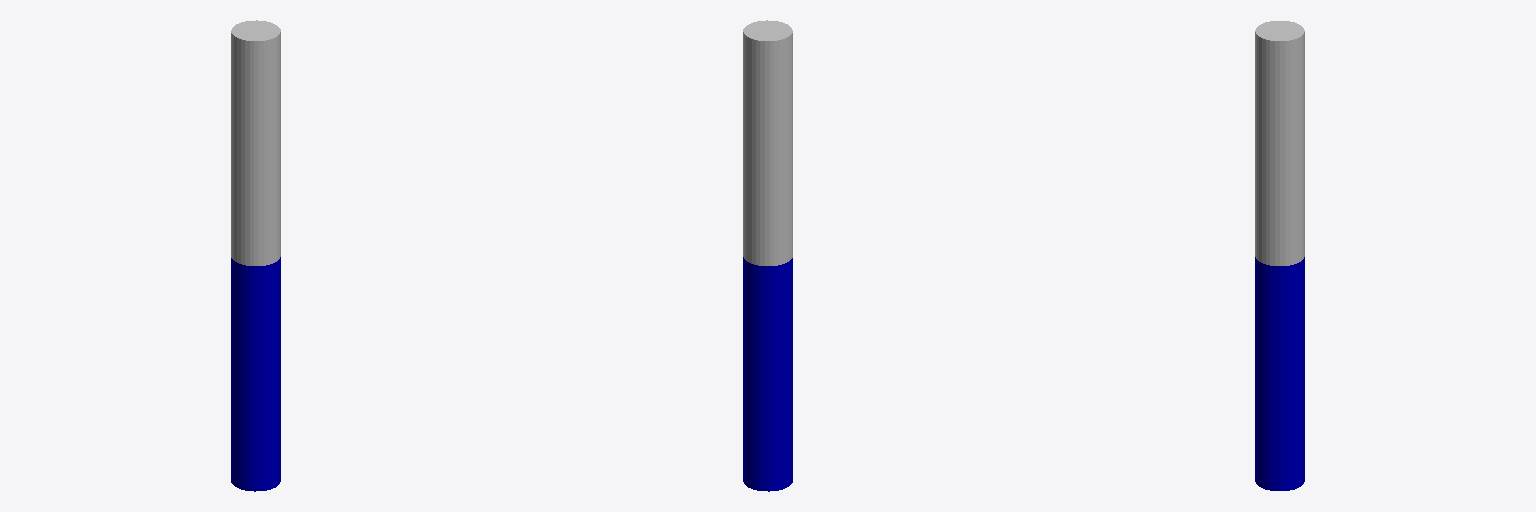
The robot description file, URDF, robot "RSP":
<?xml version="1.0" ?>
<!-- =================================================================================== -->
<!-- |    This document was autogenerated by xacro from rsp.urdf.xacro                 | -->
<!-- |    EDITING THIS FILE BY HAND IS NOT RECOMMENDED                                 | -->
<!-- =================================================================================== -->
<robot name="RSP">
  <link name="left_base_link">
    <inertial>
      <origin rpy="0 0 0" xyz="0 0 1.0"/>
      <mass value="1"/>
      <inertia ixx="0.3" ixy="0.0" ixz="0.0" iyy="0.3" iyz="0.0" izz="0.3"/>
    </inertial>
    <visual>
      <origin xyz="0 0 0.5"/>
      <geometry>
        <cylinder length="1" radius="0.1"/>
      </geometry>
      <material name="blue">
        <color rgba="0.0 0.0 0.8 1.0"/>
      </material>
    </visual>
    <collision>
      <origin xyz="0 0 0.5"/>
      <geometry>
        <cylinder length="1" radius="0.1"/>
      </geometry>
      <material name="blue">
        <color rgba="0.0 0.0 0.8 1.0"/>
      </material>
    </collision>
  </link>
  <link name="left_upper_link">
    <inertial>
      <origin rpy="0 0 0" xyz="0 0 1.0"/>
      <mass value="1"/>
      <inertia ixx="0.3" ixy="0.0" ixz="0.0" iyy="0.3" iyz="0.0" izz="0.3"/>
    </inertial>
    <visual>
      <origin xyz="0 0 0.5"/>
      <geometry>
        <cylinder length="1" radius="0.1"/>
      </geometry>
      <material name="white">
        <color rgba="0.8 0.8 0.8 1.0"/>
      </material>
    </visual>
    <collision>
      <origin xyz="0 0 0.5"/>
      <geometry>
        <cylinder length="1" radius="0.1"/>
      </geometry>
      <material name="blue">
        <color rgba="0.0 0.0 0.8 1.0"/>
      </material>
    </collision>
  </link>
  <link name="left_tool"/>
  <joint name="left_shoulder" type="revolute">
    <parent link="left_base_link"/>
    <child link="left_upper_link"/>
    <origin rpy="0 0 0" xyz="0 0 1"/>
    <limit effort="10" lower="-1" upper="1" velocity="1"/>
  </joint>
  <joint name="left_forearm" type="fixed">
    <parent link="left_upper_link"/>
    <child link="left_tool"/>
    <origin rpy="0 0 0" xyz="0 0 1"/>
  </joint>
  <gazebo>
    <plugin filename="libignition-gazebo-joint-state-publisher-system.so" name="ignition::gazebo::systems::JointStatePublisher"/>
  </gazebo>
  <gazebo>
    <plugin filename="rsp_plugin" name="rsp_system">
      <max_velocity>1</max_velocity>
      <joint>left_shoulder</joint>
      <topic>enable</topic>
    </plugin>
  </gazebo>
  <gazebo reference="left_tool">
    <!--
    <sensor name="tool_camera" type="camera">
      <update_rate> 30.0 </update_rate>
      <always_on> 1 </always_on>
      <topic> image </topic>
      <camera name="tool">
        <horizontal_fov> 1.0 </horizontal_fov>
        <image>
          <width> 800 </width>
          <height> 800 </height>
          <format>R8G8B8</format>
        </image>
        <clip>
          <near> 0.02 </near>
          <far> 300 </far>
        </clip>
        <noise>
          <mean> 0.0 </mean>
          <stddev> 0.01 </stddev>
        </noise>
        <visibility_mask>[number redacted]</visibility_mask>
      </camera>
      <plugin filename="ignition-gazebo-sensors-system" name="ignition::gazebo::systems::Sensors">
  </plugin>
    </sensor>
    -->
    <sensor type="gpu_lidar" name="gpu_lidar">
      <update_rate>40.0</update_rate> 
      <always_on>1</always_on>
      <topic>sonar</topic>
      <visualize>1</visualize>
      <ignition_frame_id>left_tool</ignition_frame_id>
      <ray>
        <scan>
          <horizontal>
            <samples>15</samples>
            <resolution>1.0</resolution>
            <min_angle>-0.1309</min_angle>
            <max_angle>0.1309</max_angle>
          </horizontal>
          <vertical>
            <samples>15</samples>
            <resolution>1.0</resolution>
            <min_angle>-0.1309</min_angle>
            <max_angle>0.1309</max_angle>
          </vertical>
        </scan>
        <range>
          <min>0.02</min>
          <max>4.0</max>
        </range>
        <visibility_mask>[number redacted]</visibility_mask>
      </ray>
      <plugin filename="ignition-gazebo-sensors-system" name="ignition::gazebo::systems::Sensors">
      </plugin>
    </sensor>
  </gazebo>
  <link name="world"/>
  <joint name="left_base" type="fixed">
    <parent link="world"/>
    <child link="left_base_link"/>
  </joint>
</robot>

--- What the picture shows (computed from the rendered views, not written in the file) ---
The picture shows the robot from 3 angles, left to right: view 1: azimuth 30°, elevation 25°; view 2: azimuth 150°, elevation 25°; view 3: azimuth 270°, elevation 25°; orthographic projection.
Robot: RSP — 4 links, 3 joints (1 revolute, 2 fixed); root link world; default pose: all joints at 0.
Visible links, largest first — view 1: left_upper_link, left_base_link; view 2: left_upper_link, left_base_link; view 3: left_upper_link, left_base_link.
Boxes of the visible links, x1=… form: left_upper_link: x1=231, y1=20, x2=280, y2=265; left_base_link: x1=231, y1=257, x2=280, y2=491; left_upper_link: x1=743, y1=20, x2=792, y2=265; left_base_link: x1=743, y1=257, x2=792, y2=491; left_upper_link: x1=1255, y1=21, x2=1304, y2=265; left_base_link: x1=1255, y1=257, x2=1304, y2=490.
Size in the robot's own frame: 0.2 by 0.2 by 2 metres.
Geometry: primitives only (box / cylinder / sphere), no mesh files.
